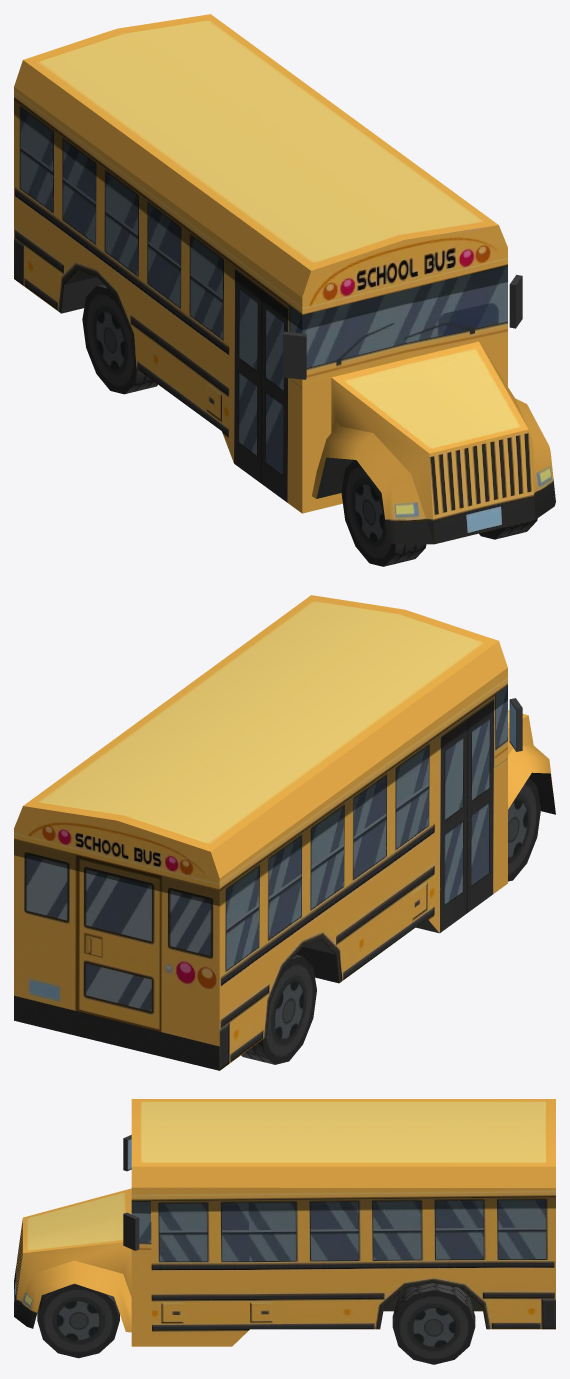
The model's file is city_school_bus.glb.
3 renders of one model, top to bottom at view 1: azimuth 30°, elevation 25°; view 2: azimuth 150°, elevation 25°; view 3: azimuth 270°, elevation 25°, orthographic. The views are drawn at different scales.
Visible parts, largest first — view 1: polySurface85; view 2: polySurface85; view 3: polySurface85.
Part boxes in pixels (x1,y1,x2,y2): polySurface85: [14, 14, 555, 566]; polySurface85: [14, 595, 555, 1070]; polySurface85: [14, 1099, 555, 1364].
Bounding box in the file's own units: 2.11 × 2.35 × 5.61.
Materials: 1 (1 with a texture image).
